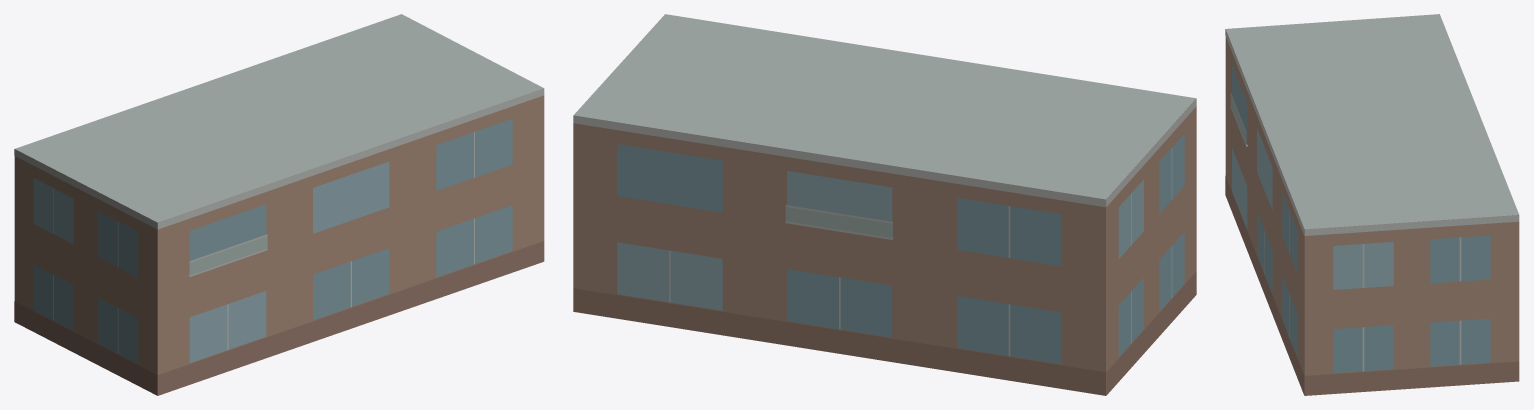
Rendered from survey-upis-32561825.glb.
3 renders of one model, left to right at view 1: azimuth 30°, elevation 25°; view 2: azimuth 150°, elevation 25°; view 3: azimuth 270°, elevation 25°, orthographic. The views are drawn at different scales.
Parts seen in each view (by area): view 1: survey-upis-32561825.tmp; view 2: survey-upis-32561825.tmp; view 3: survey-upis-32561825.tmp.
Part boxes in pixels (bbox=[...]): survey-upis-32561825.tmp: bbox=[14, 14, 544, 395]; survey-upis-32561825.tmp: bbox=[573, 14, 1196, 395]; survey-upis-32561825.tmp: bbox=[1225, 14, 1519, 395].
Size of the model in its own units: 16.94 by 6.1 by 9.77.
